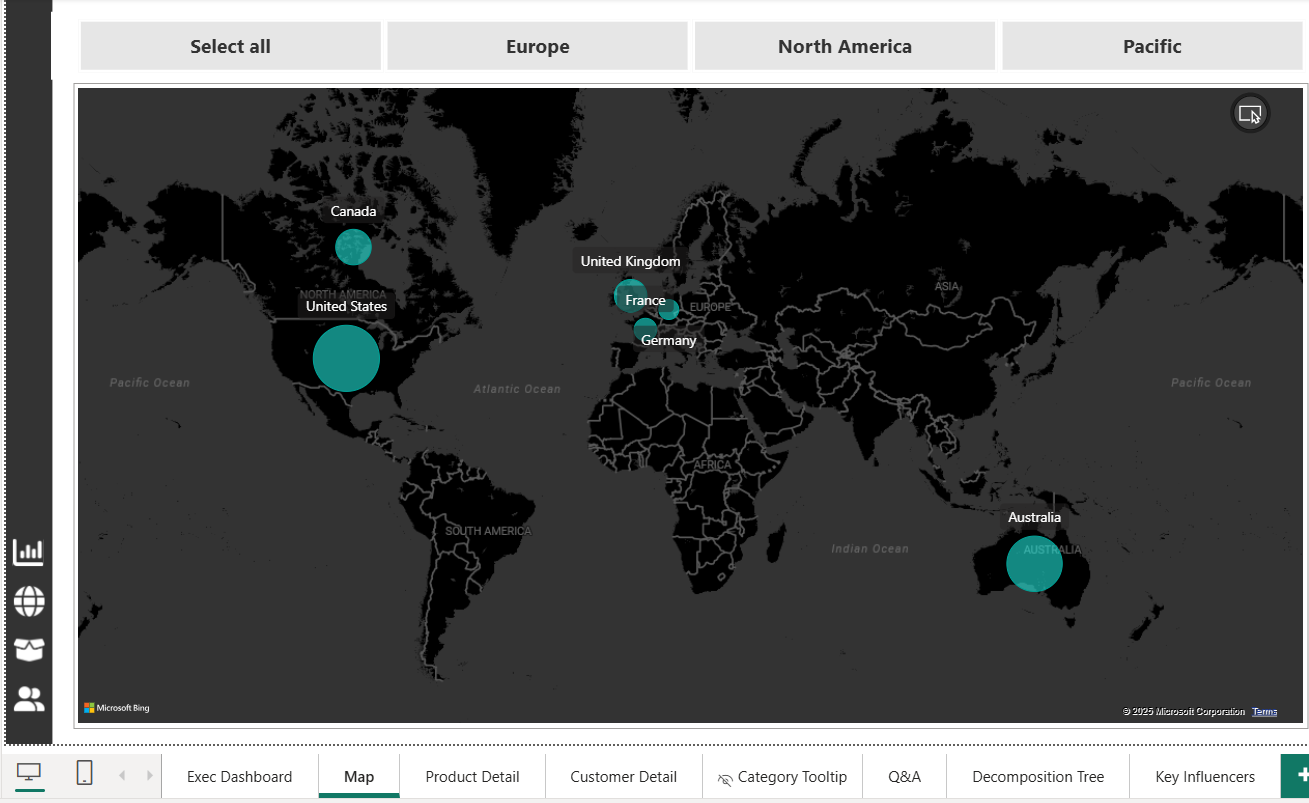

What the dashboard file says about the page in this screenshot:
{"tool":"powerbi","page":{"name":"Map","canvas":[1280,720],"ordinal":1},"visuals":[{"type":"shape","box":[0,0,45,720],"z":0},{"type":"actionButton","box":[2.5,516.7,45.6,37.8],"z":0,"group":"g1"},{"type":"actionButton","box":[3.3,563.4,45.6,37.8],"z":1000,"group":"g1"},{"type":"map","fields":{"Category":["Territory Lookup.Country"],"Size":["Measure Table.Total Orders"]},"box":[65.6,82.5,1191.3,622.8],"z":1000},{"type":"slicer","fields":{"Values":["Territory Lookup.Continent"]},"box":[43,13.6,1234.3,65.6],"z":2000},{"type":"actionButton","box":[3.3,611.1,45.6,37.8],"z":2000,"group":"g1"},{"type":"actionButton","box":[3.3,657.8,45.6,37.8],"z":3000,"group":"g1"},{"type":"group","id":"g1","title":"Navigation Buttons","box":[2.5,516.7,46.4,178.9],"z":3000}]}

Visuals, with their boxes on the page's 1280x720 design canvas (x1, y1, x2, y2). These are canvas units, not pixel positions in the 1309x803 screenshot, which may show the page scaled, cropped or inside an application window:
shape: l=0, t=0, r=45, b=720
actionButton: l=2, t=517, r=48, b=554
actionButton: l=3, t=563, r=49, b=601
map - Territory Lookup.Country x Measure Table.Total Orders: l=66, t=82, r=1257, b=705
slicer - Territory Lookup.Continent: l=43, t=14, r=1277, b=79
actionButton: l=3, t=611, r=49, b=649
actionButton: l=3, t=658, r=49, b=696
"Navigation Buttons" group: l=2, t=517, r=49, b=696
